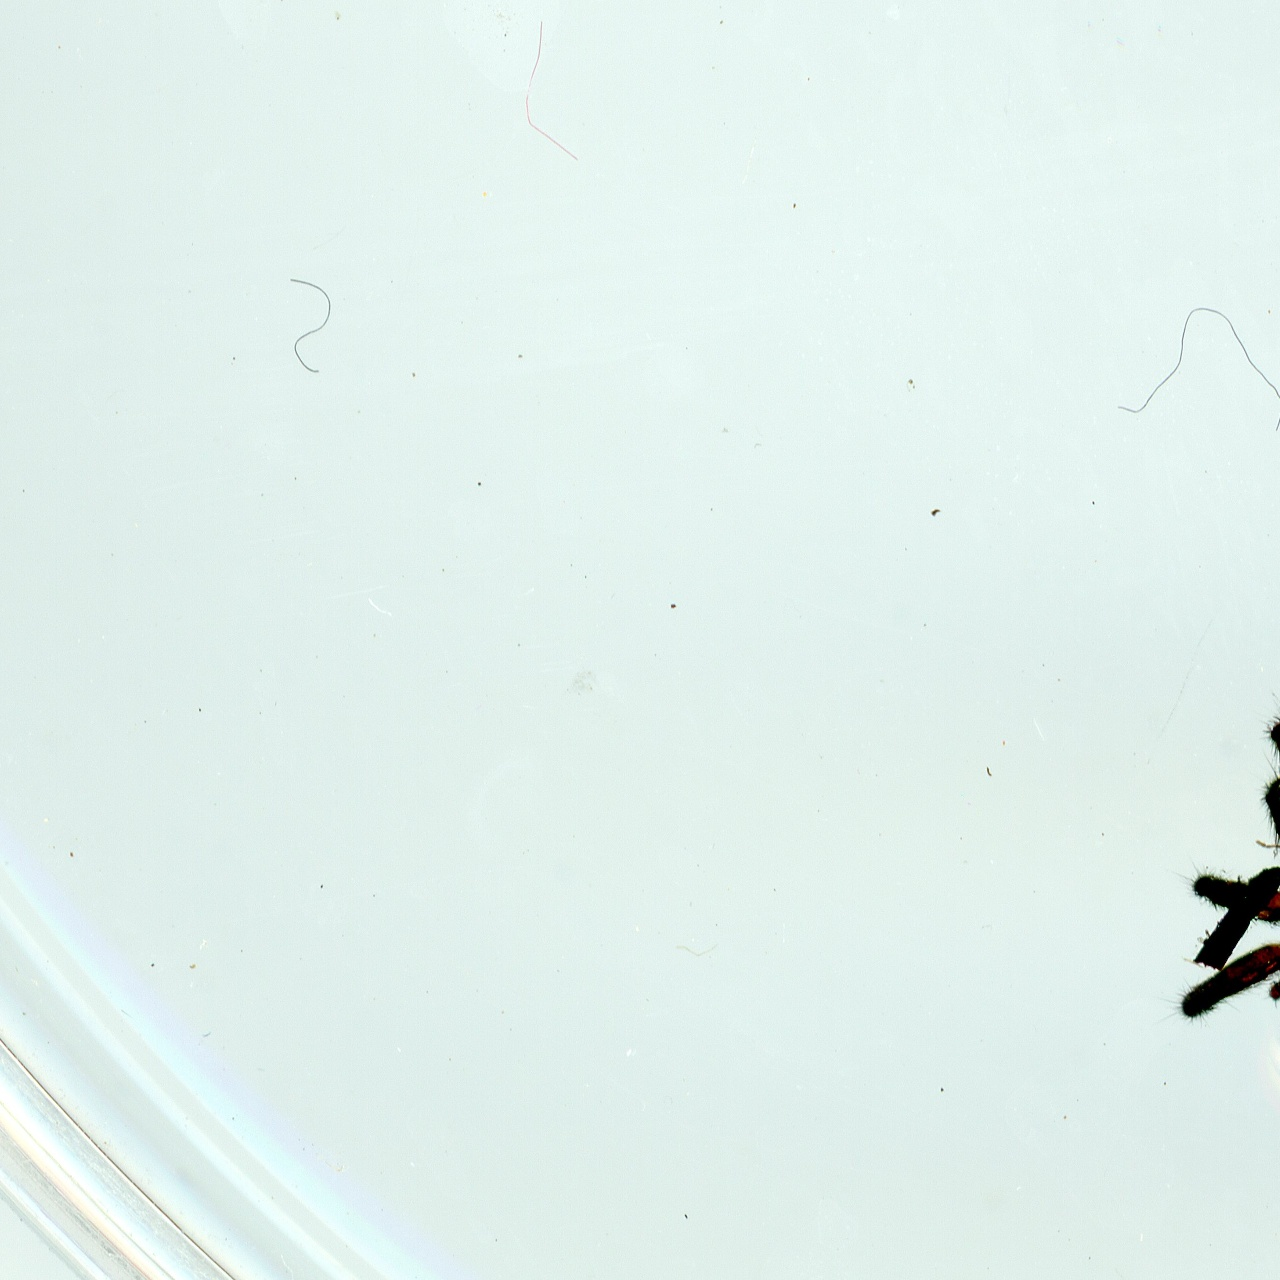arthropod: (1175, 696, 1280, 1143)
